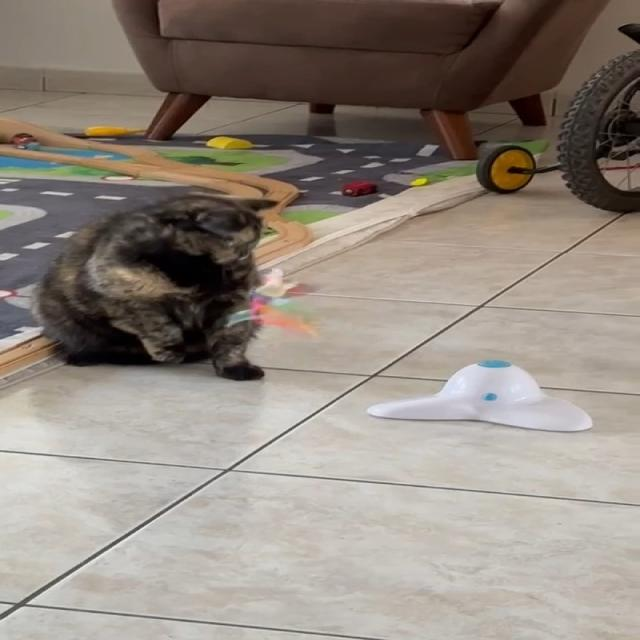authorized: (29, 191, 278, 381)
